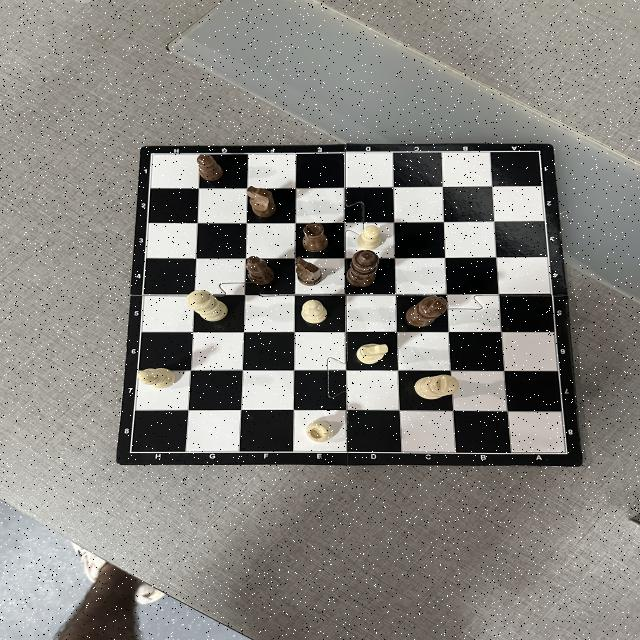Black-Bishop: (247, 256, 277, 284)
Black-King: (406, 296, 448, 328)
Black-Knight: (247, 185, 275, 218), (294, 258, 322, 286)
Black-Pawn: (198, 154, 224, 182)
Black-Queen: (347, 250, 379, 288)
Black-Rook: (302, 224, 328, 252)
White-Bishop: (137, 368, 176, 388)
White-King: (415, 374, 459, 400)
White-Knight: (356, 342, 388, 364)
White-Pawn: (302, 300, 328, 324), (357, 226, 381, 250)
White-Queen: (187, 289, 228, 321)
White-Rook: (306, 420, 334, 442)
